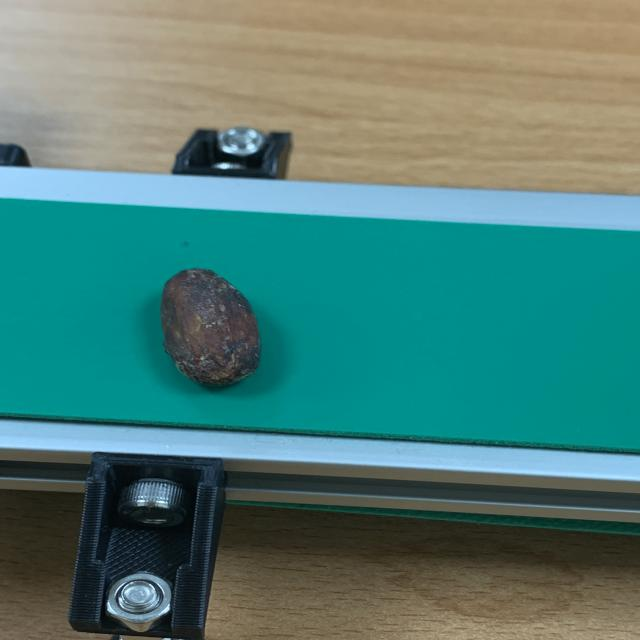Fine_cocoabeans: (37, 242, 396, 433)
